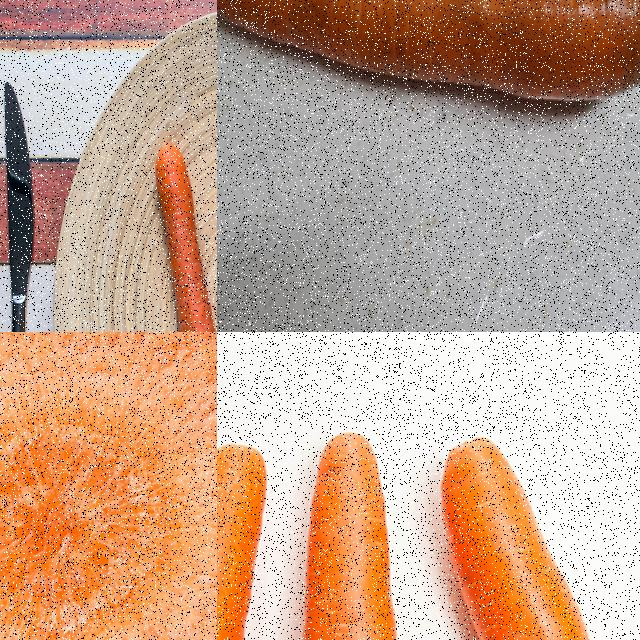carrot: (0, 332, 216, 639), (217, 0, 639, 108), (436, 428, 639, 639), (290, 429, 416, 639), (150, 139, 216, 331)
